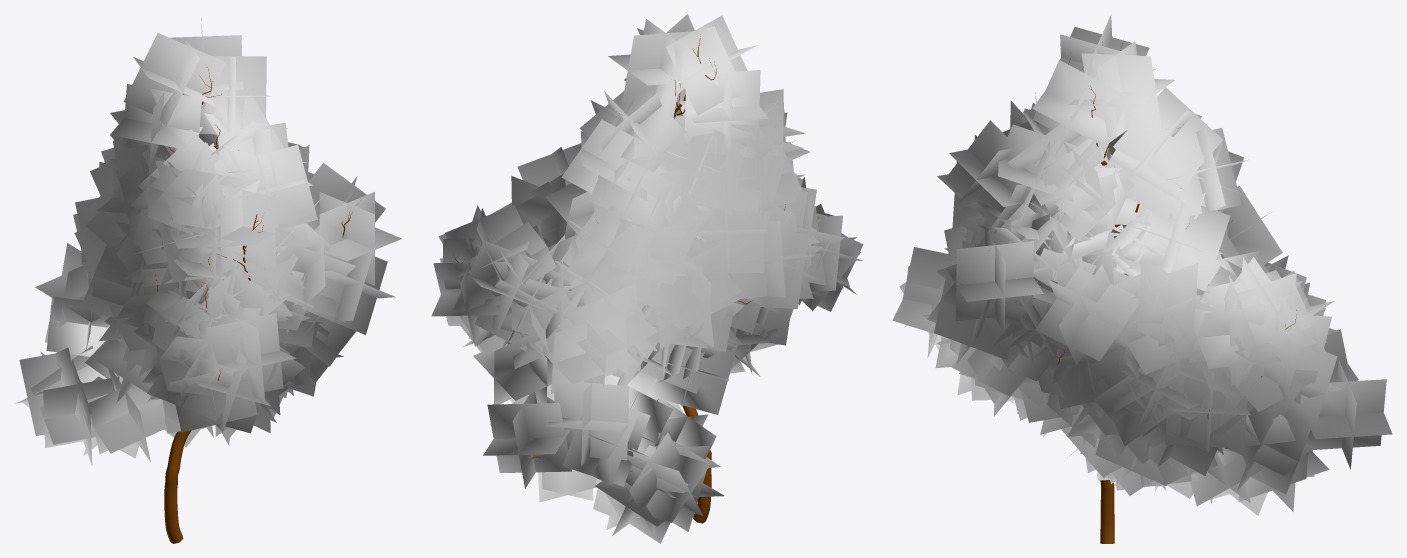
The model's file is tree2_LOD0.fbx.
3 views of the same model, side by side, from view 1: azimuth 30°, elevation 25°; view 2: azimuth 150°, elevation 25°; view 3: azimuth 270°, elevation 25° (orthographic). The views are drawn at different scales.
Visible parts, largest first — view 1: transform1; view 2: transform1; view 3: transform1.
Boxes of the visible parts, x1,y1,x2,y2 form: transform1: [15, 18, 401, 543]; transform1: [431, 14, 863, 543]; transform1: [892, 14, 1392, 543].
Bounding box in the file's own units: 526 × 865 × 750.
